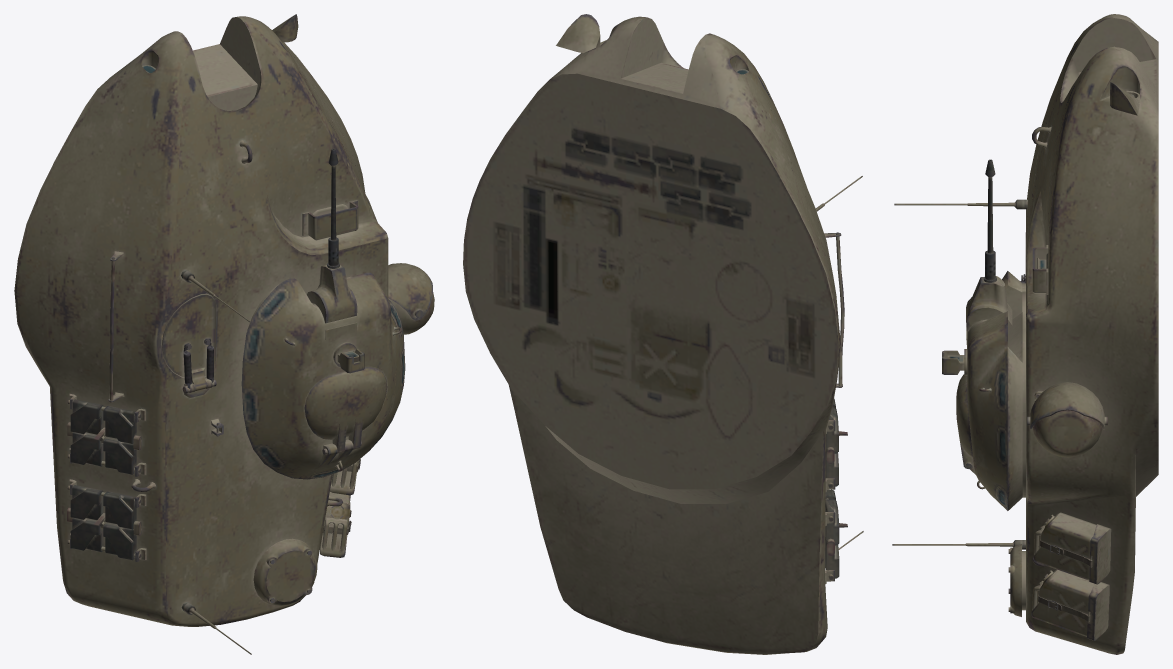
File: Turret_01.glb
The picture shows the model from 3 angles, left to right: view 1: azimuth 30°, elevation 25°; view 2: azimuth 150°, elevation 25°; view 3: azimuth 270°, elevation 25°; orthographic projection. The views are drawn at different scales.
Parts seen in each view (by area): view 1: set_0_group_0; view 2: set_0_group_0; view 3: set_0_group_0.
Part boxes in pixels (x1=…): set_0_group_0: x1=14, y1=14, x2=434, y2=654; set_0_group_0: x1=463, y1=14, x2=863, y2=654; set_0_group_0: x1=892, y1=14, x2=1158, y2=654.
Bounding box in the file's own units: 2.84 × 4.26 × 1.74.
1 material, 1 textured.
